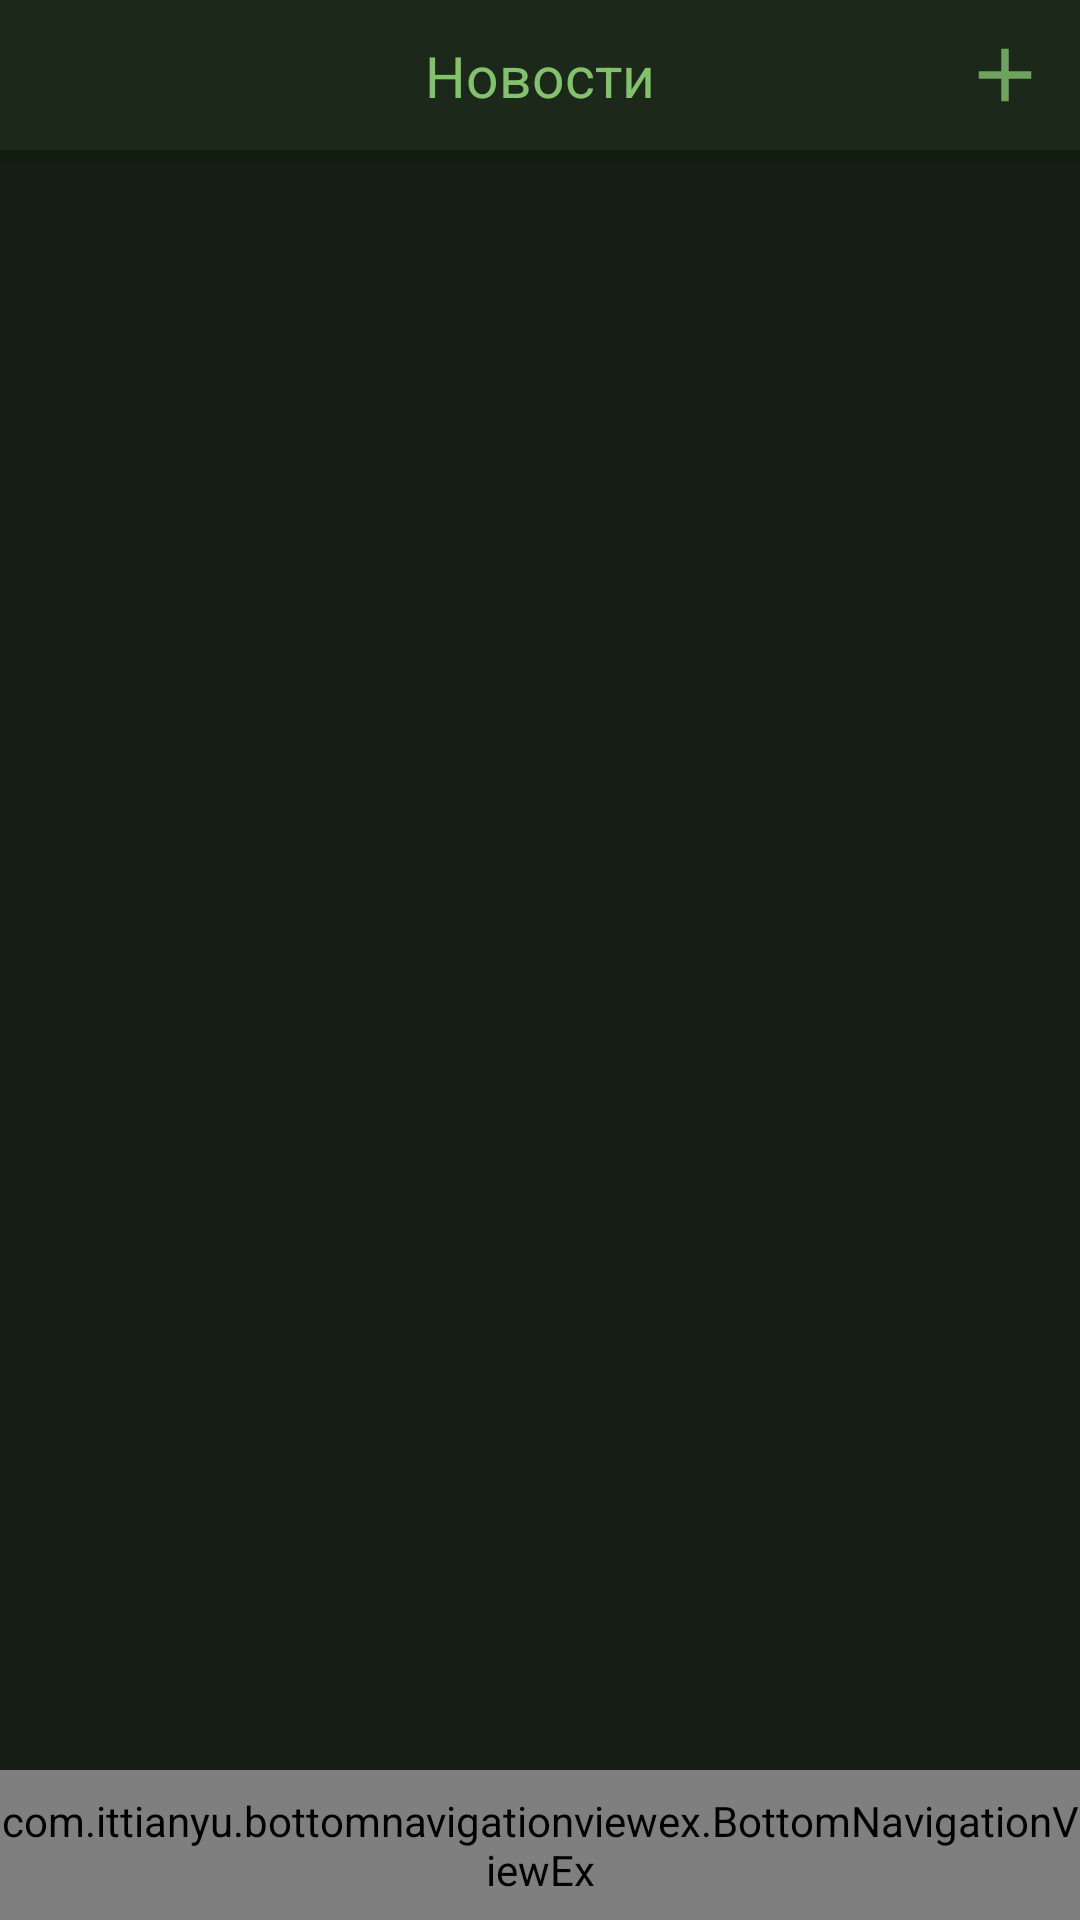

Icons on this 1080x1920 Android screen, each with the point to tap as point (x, y):
add post: point (1005, 75)
